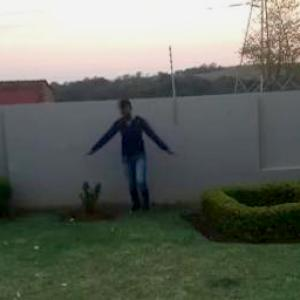land: (85, 94, 177, 221)
